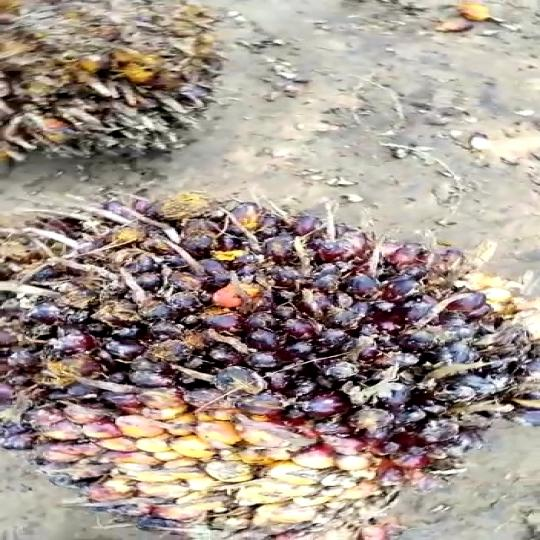mentah: (7, 205, 540, 537)
